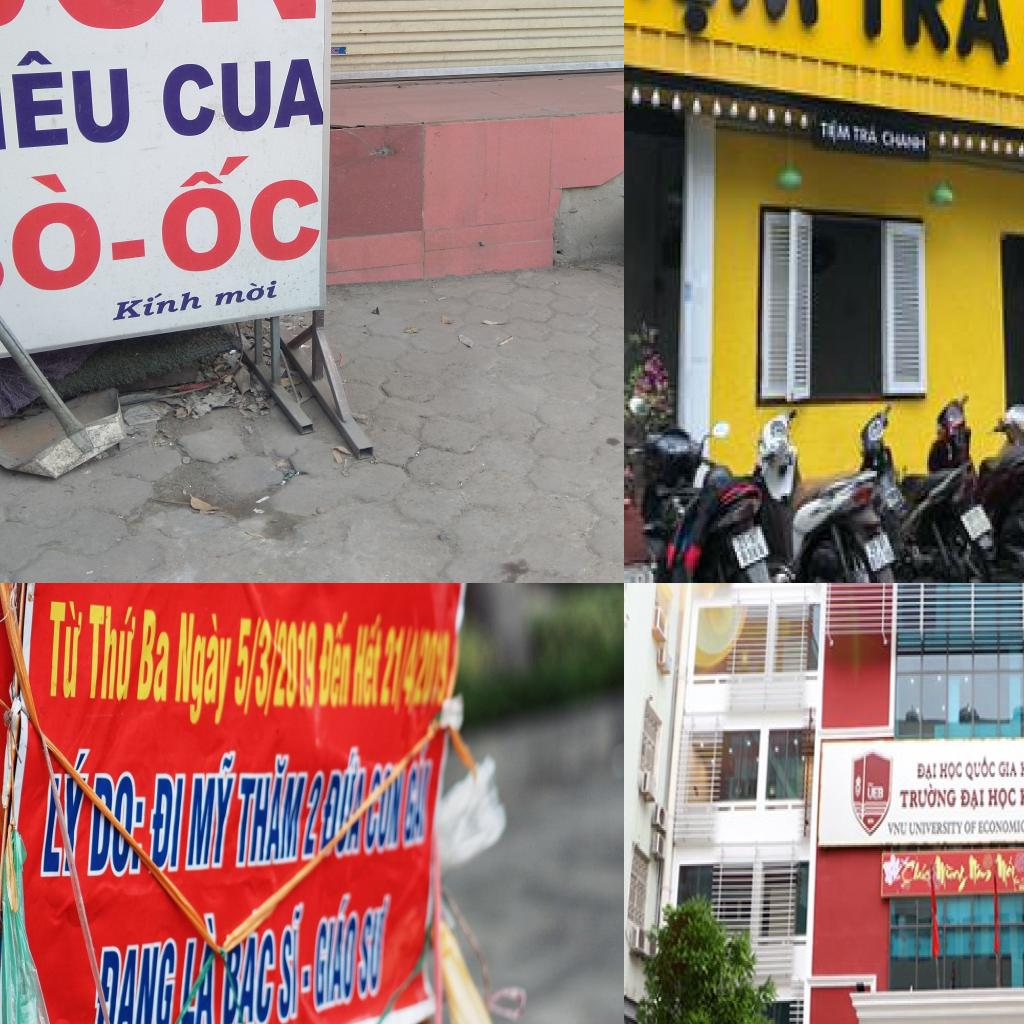text: (146, 146, 322, 276), (0, 42, 133, 158), (0, 165, 106, 309), (152, 55, 330, 139), (837, 0, 1014, 75), (230, 749, 308, 869), (170, 600, 236, 730), (35, 740, 93, 884), (91, 937, 177, 1024), (182, 749, 238, 876), (85, 769, 144, 880), (81, 598, 139, 706), (380, 620, 450, 708), (312, 890, 358, 1016), (220, 925, 273, 1024), (319, 748, 364, 860), (46, 585, 85, 708), (146, 764, 188, 875), (176, 911, 215, 1024), (133, 601, 174, 708), (106, 282, 205, 326), (269, 619, 317, 709), (363, 758, 403, 858), (357, 895, 392, 1004), (401, 740, 435, 848), (316, 610, 353, 708), (351, 613, 385, 710), (278, 896, 303, 1024), (298, 766, 326, 862), (210, 276, 284, 311), (250, 616, 274, 716), (241, 615, 263, 718), (232, 615, 253, 711), (262, 619, 281, 719), (932, 851, 969, 898), (897, 781, 958, 809), (908, 815, 965, 839), (899, 852, 933, 892), (883, 128, 931, 156), (978, 812, 1024, 839), (814, 118, 854, 146), (968, 852, 995, 892), (996, 851, 1021, 894), (988, 782, 1016, 813), (964, 754, 997, 779), (852, 123, 881, 151), (959, 786, 986, 813), (914, 760, 939, 784), (884, 817, 909, 841), (938, 760, 964, 782), (998, 756, 1020, 780), (865, 784, 884, 804), (962, 818, 979, 838), (1020, 754, 1024, 778)
